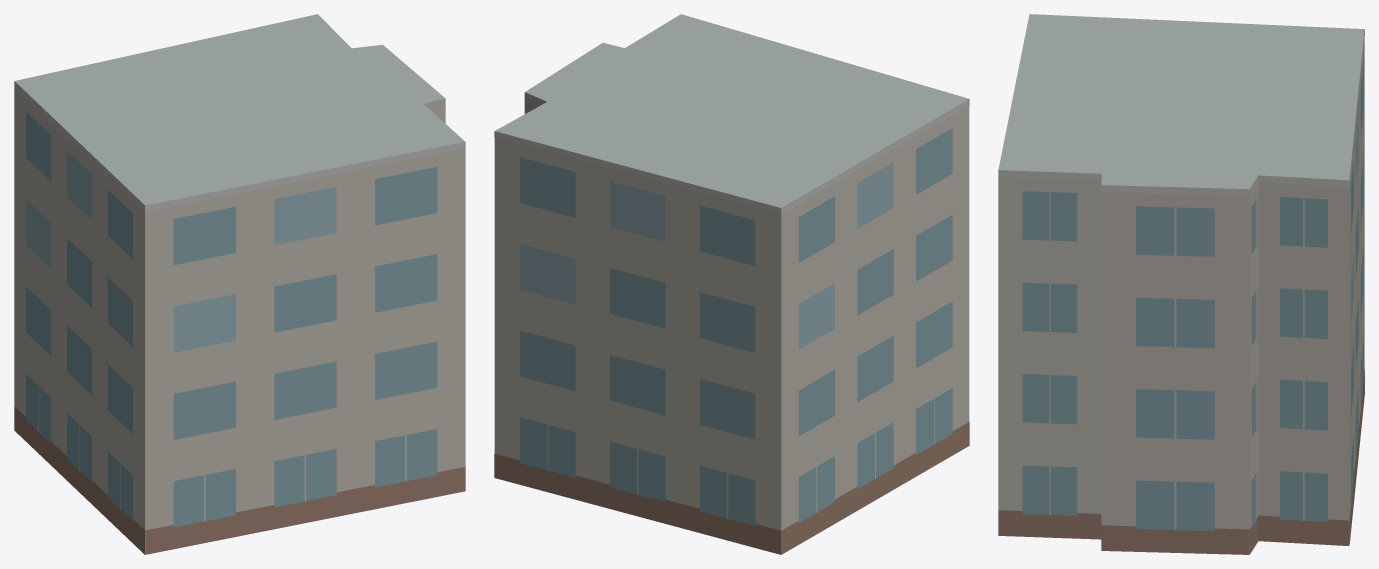
Rendered from survey-upis-32993225.glb.
3 views of the same model, side by side, from view 1: azimuth 30°, elevation 25°; view 2: azimuth 150°, elevation 25°; view 3: azimuth 270°, elevation 25° (orthographic). The views are drawn at different scales.
Parts seen in each view (by area): view 1: survey-upis-32993225.tmp; view 2: survey-upis-32993225.tmp; view 3: survey-upis-32993225.tmp.
Part boxes in pixels (<box>): survey-upis-32993225.tmp: <box>14,14,465,554</box>; survey-upis-32993225.tmp: <box>494,14,969,554</box>; survey-upis-32993225.tmp: <box>998,14,1364,554</box>.
Bounding box in the file's own units: 13.57 × 13.2 × 12.
